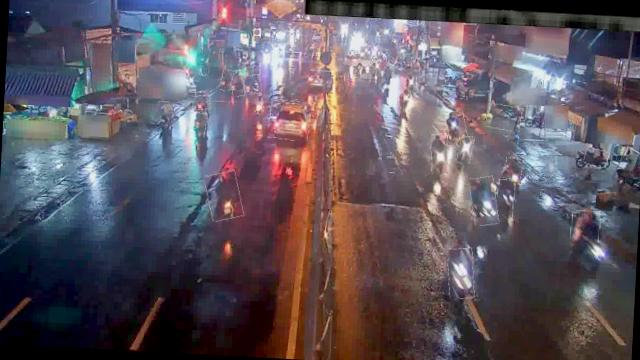Bike: (204, 170, 242, 221), (568, 210, 599, 260), (446, 247, 476, 298), (468, 176, 498, 226), (486, 103, 522, 132), (430, 133, 449, 174), (496, 180, 515, 218), (444, 110, 466, 140), (156, 102, 178, 126), (583, 148, 608, 168), (503, 156, 523, 180), (457, 135, 473, 164), (190, 112, 207, 138), (242, 74, 262, 94), (230, 69, 244, 96), (398, 88, 412, 114), (218, 68, 232, 92), (192, 94, 210, 109), (406, 72, 416, 93)
Car: (267, 98, 311, 140), (306, 70, 334, 92)
